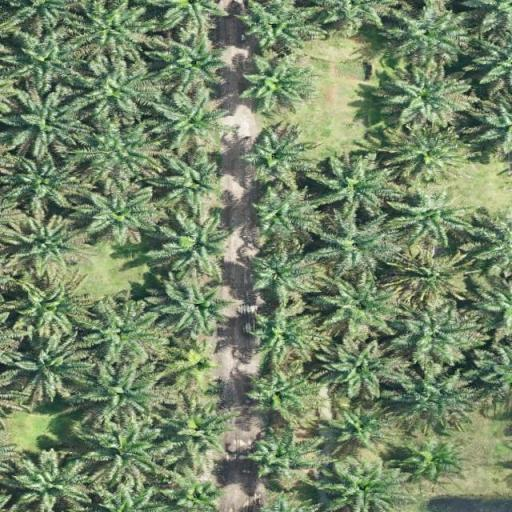Ganoderma: (172, 348, 224, 382)
